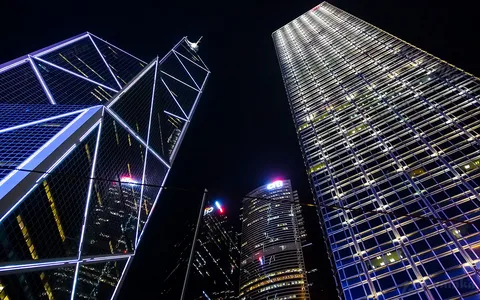high_rise_building: (262, 6, 424, 240), (81, 14, 217, 198)
